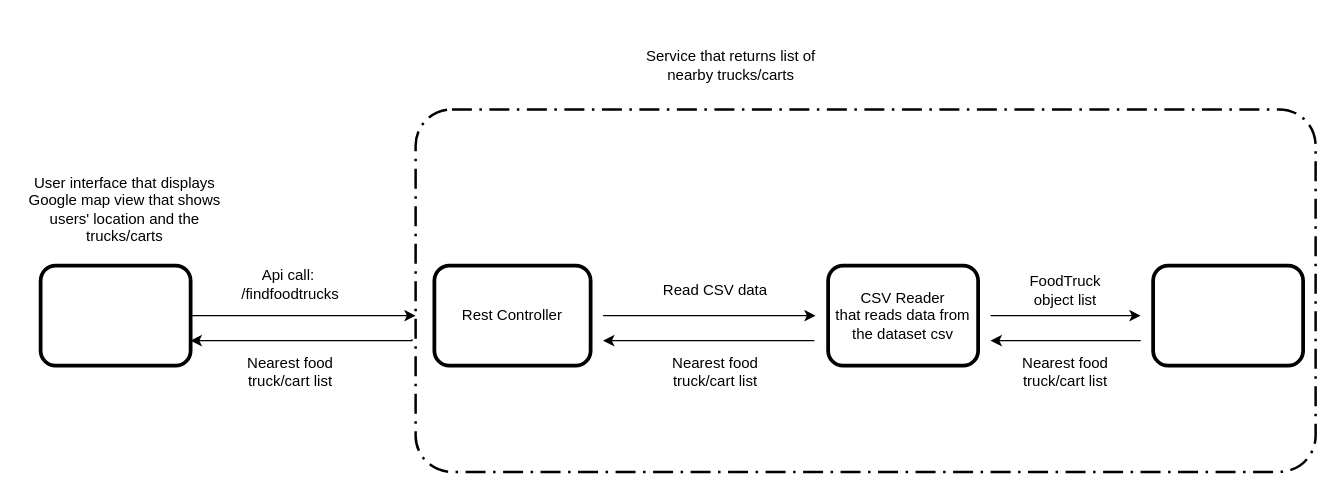
The diagram is 1338 pixels wide and 494 high, and some of its shapes have lost their labels. The centre of each missing label's shape, as x and y in pixels:
"NearestNeighbor Algorithm" belongs at pixel 1227 315.
"Vuejs Frontend Application" belongs at pixel 115 315.
